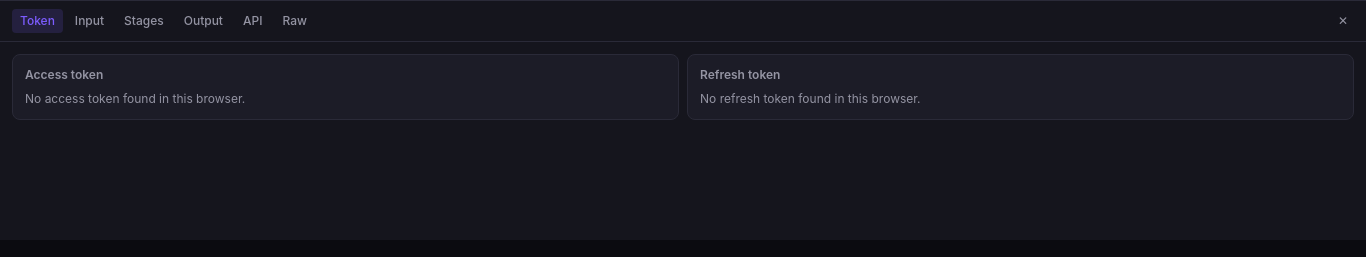
it: InspectorDock › INPUT tab shows an empty state before any run
Click the button "Input".
click(90, 21)  # box [67,9,112,33]
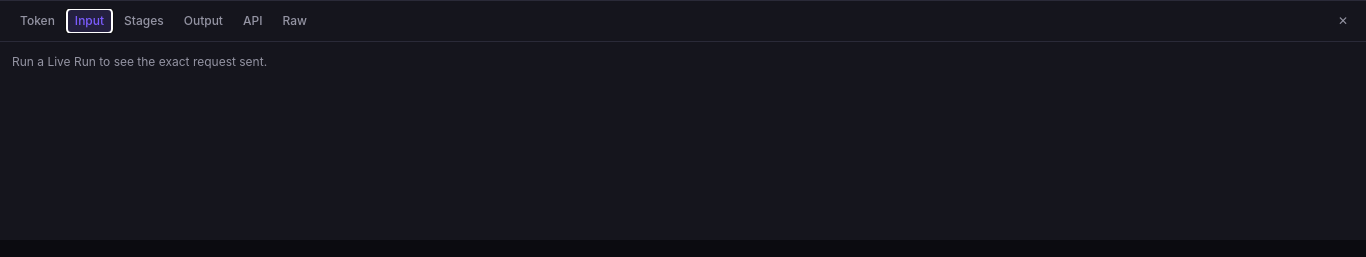
expect the text "Run a Live Run to see the exact request sent." is shown: met, box [12,54,267,69]
